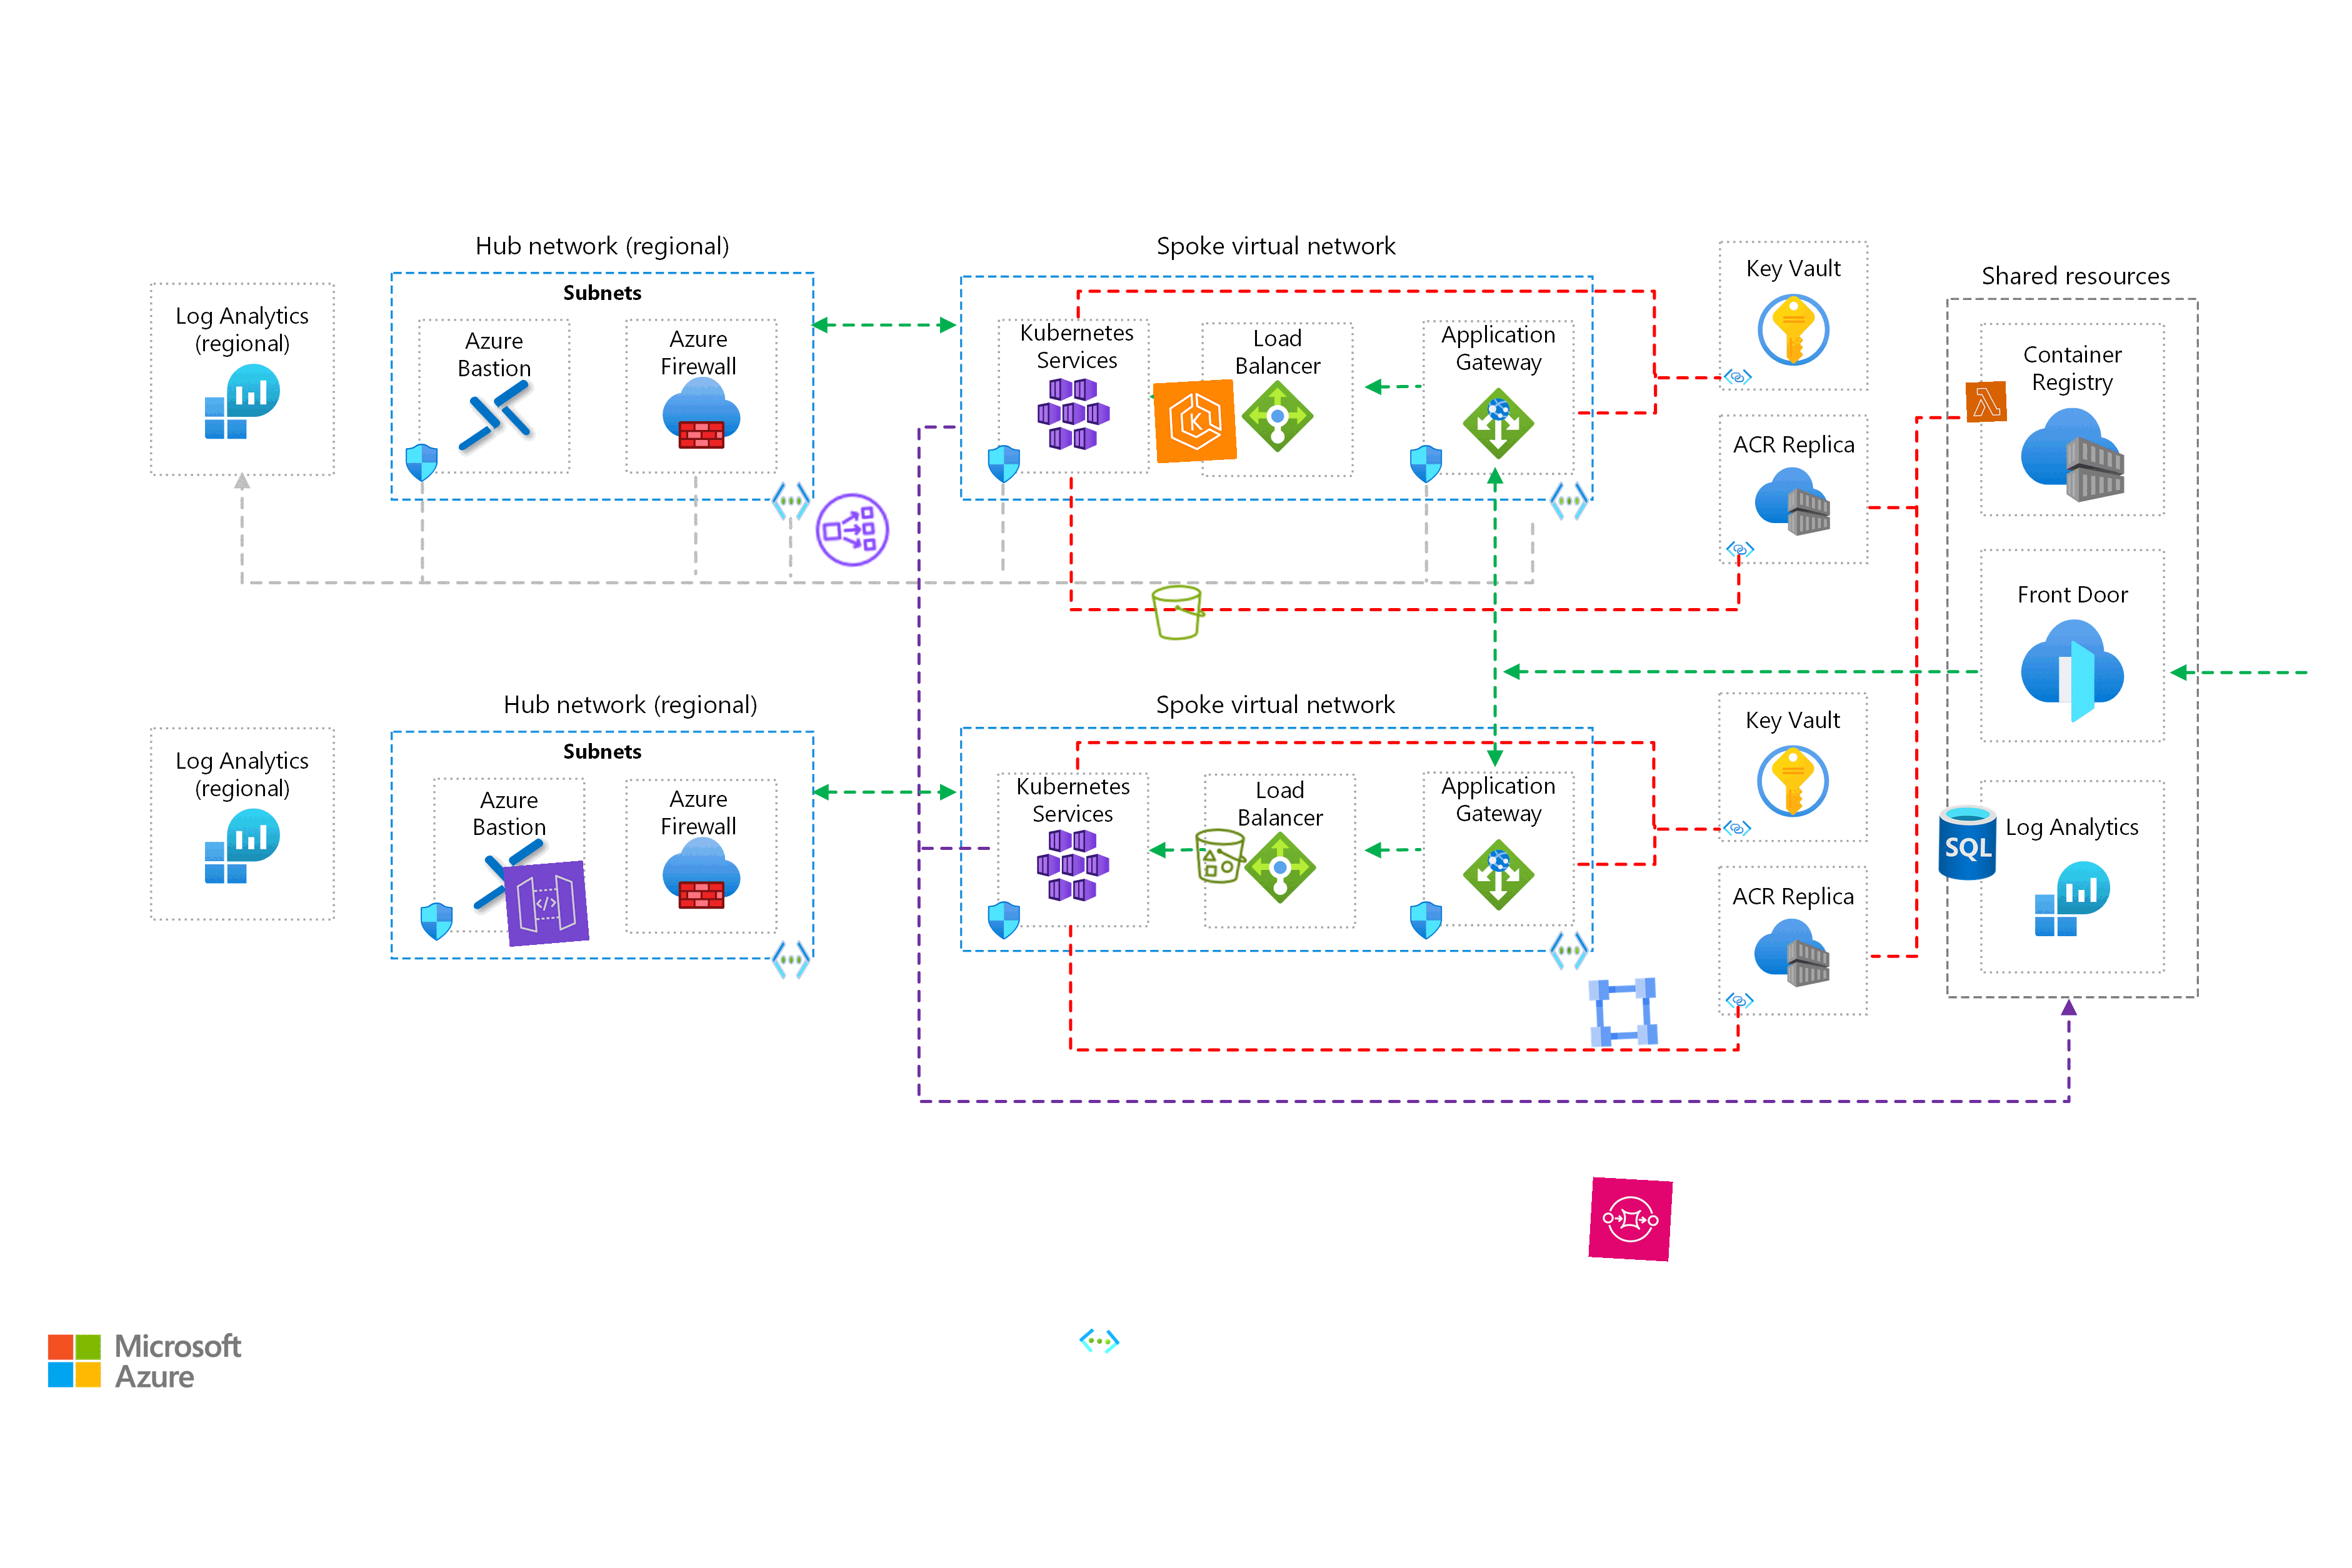aws_amazon_api_gateway: (502, 859, 590, 947)
aws_amazon_elastic_kubernetes_service: (1153, 378, 1237, 464)
aws_amazon_simple_queue_service: (1589, 1176, 1673, 1262)
aws_elastic_load_balancing_network_load_balancer: (810, 486, 896, 572)
aws_lambda: (1965, 380, 2007, 423)
aws_simple_storage_service_bucket_with_objects: (1188, 824, 1253, 887)
aws_simple_storage_service_s3_standard: (1146, 581, 1211, 644)
azure_sql_database: (1927, 801, 2009, 884)
azure_virtual_networks: (1078, 1319, 1122, 1363)
gcp_virtual_private_cloud: (1582, 971, 1664, 1053)
